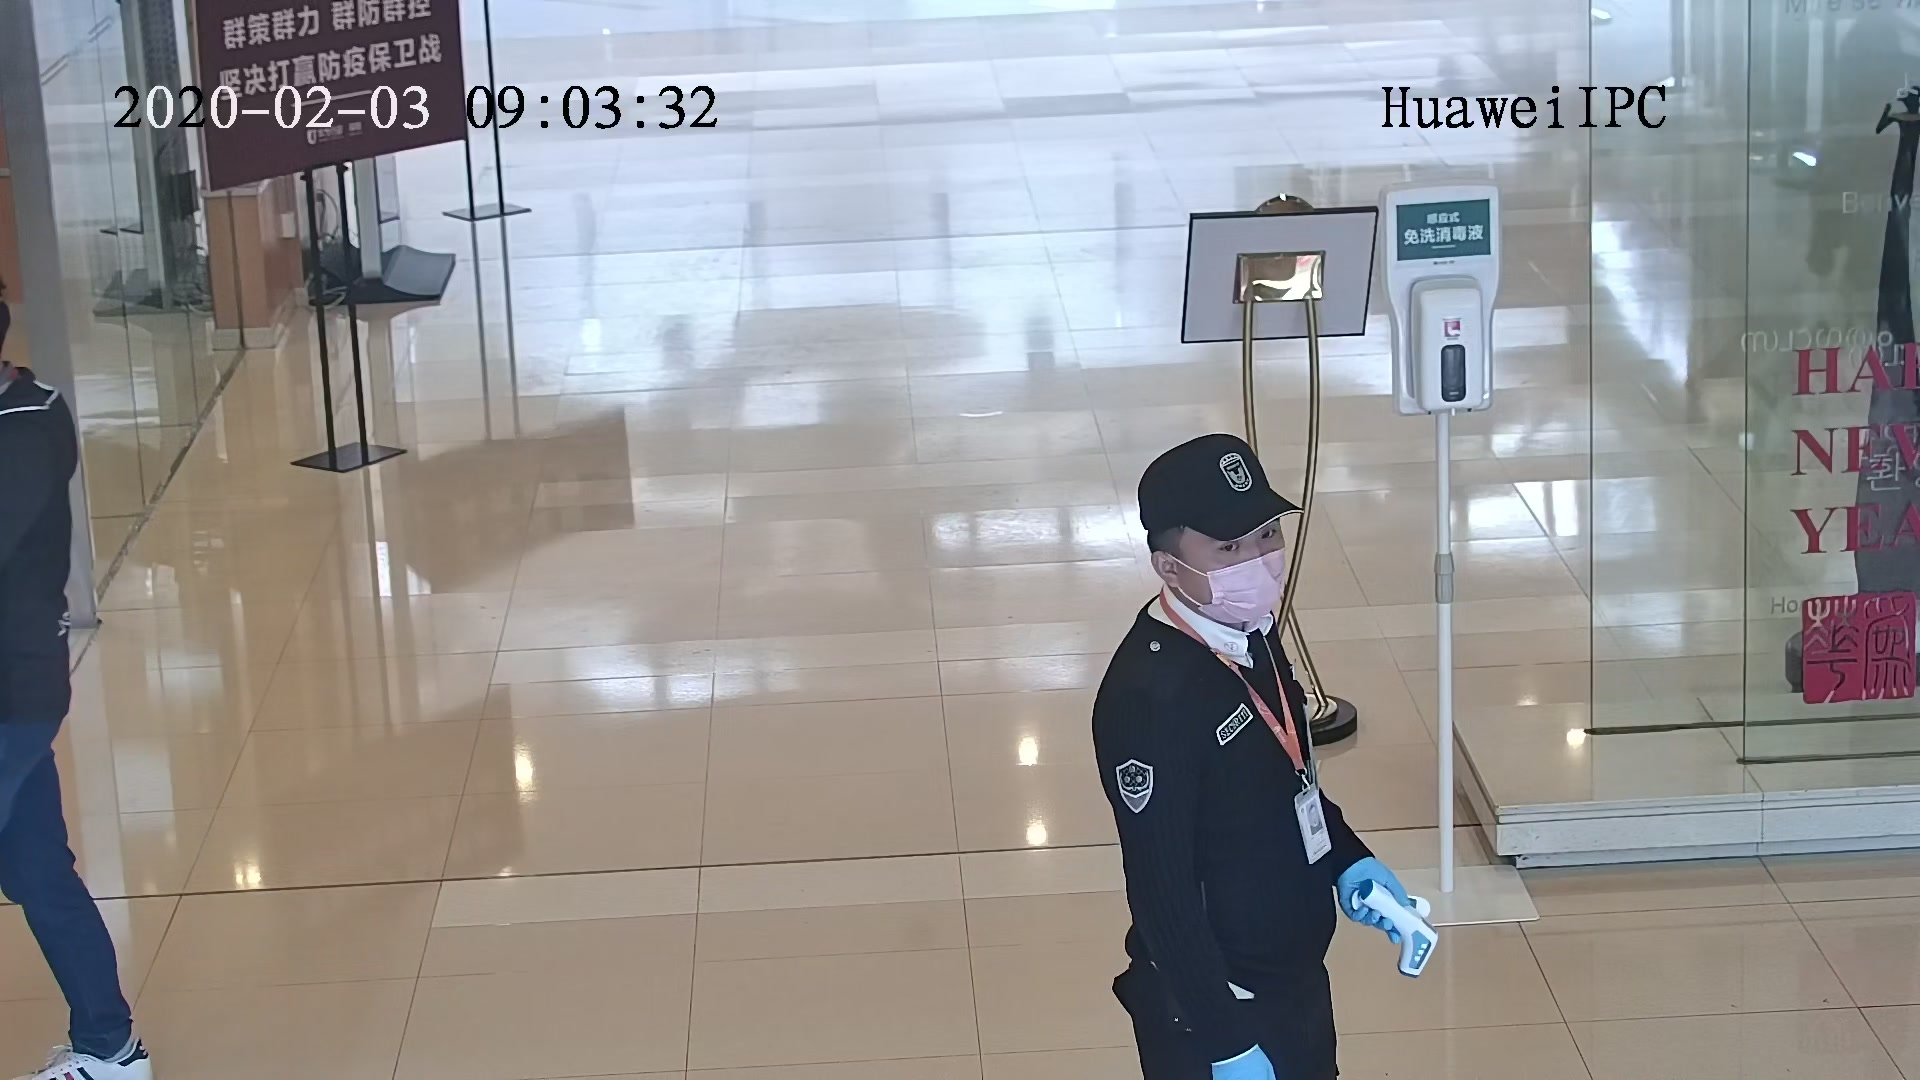face: (1176, 510, 1293, 627)
mask: (1200, 551, 1298, 622)
person: (1093, 430, 1303, 716), (1, 272, 73, 450)
